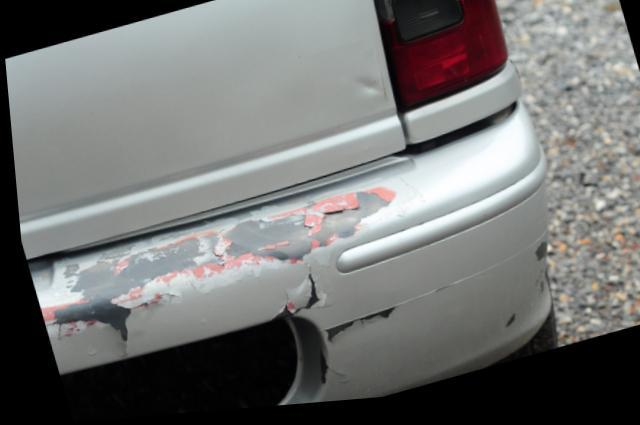dent: (352, 82, 377, 102)
scratch: (36, 187, 402, 340)
